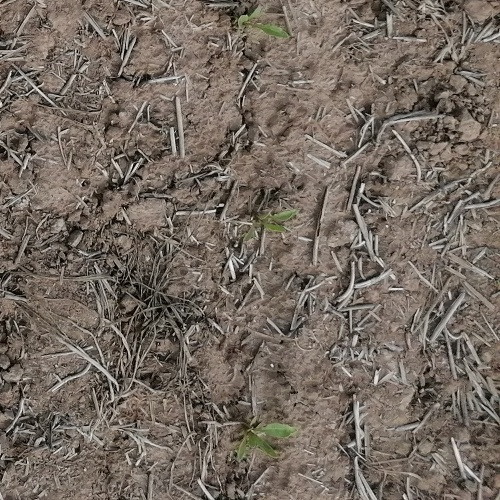beet: (237, 418, 297, 462), (244, 207, 302, 242), (239, 5, 290, 39)
